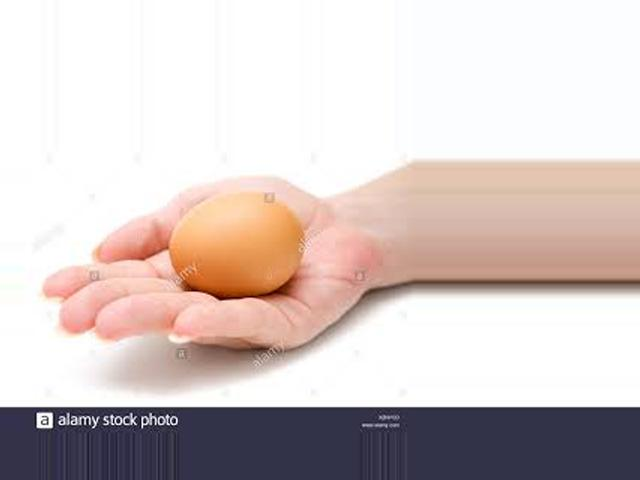egg: (170, 190, 305, 296)
